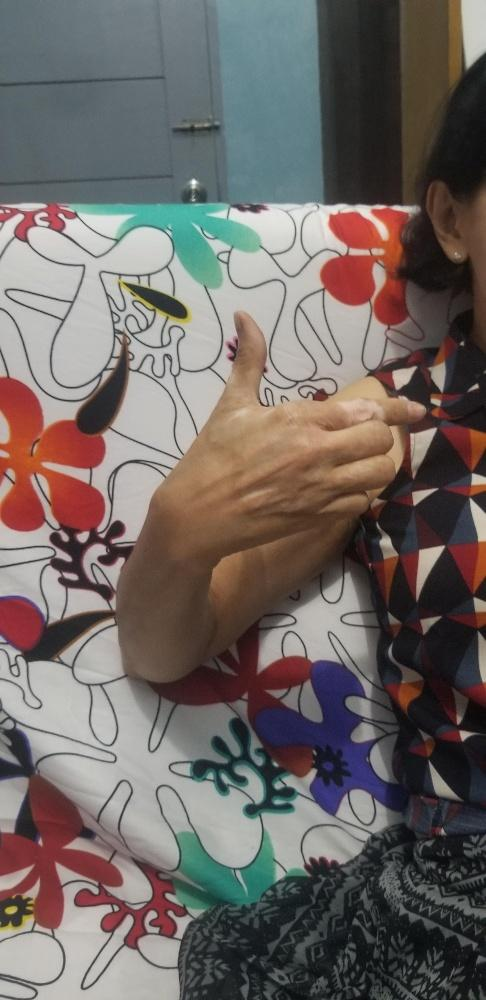g: (147, 305, 429, 556)
